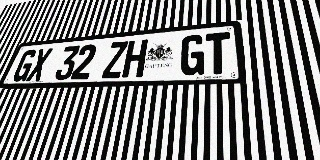2: (70, 44, 98, 80)
3: (53, 45, 81, 80)
G: (179, 34, 205, 76), (11, 49, 38, 82)
H: (122, 39, 148, 78)
T: (205, 32, 231, 75)
X: (26, 48, 53, 81)
Z: (101, 41, 129, 79)
